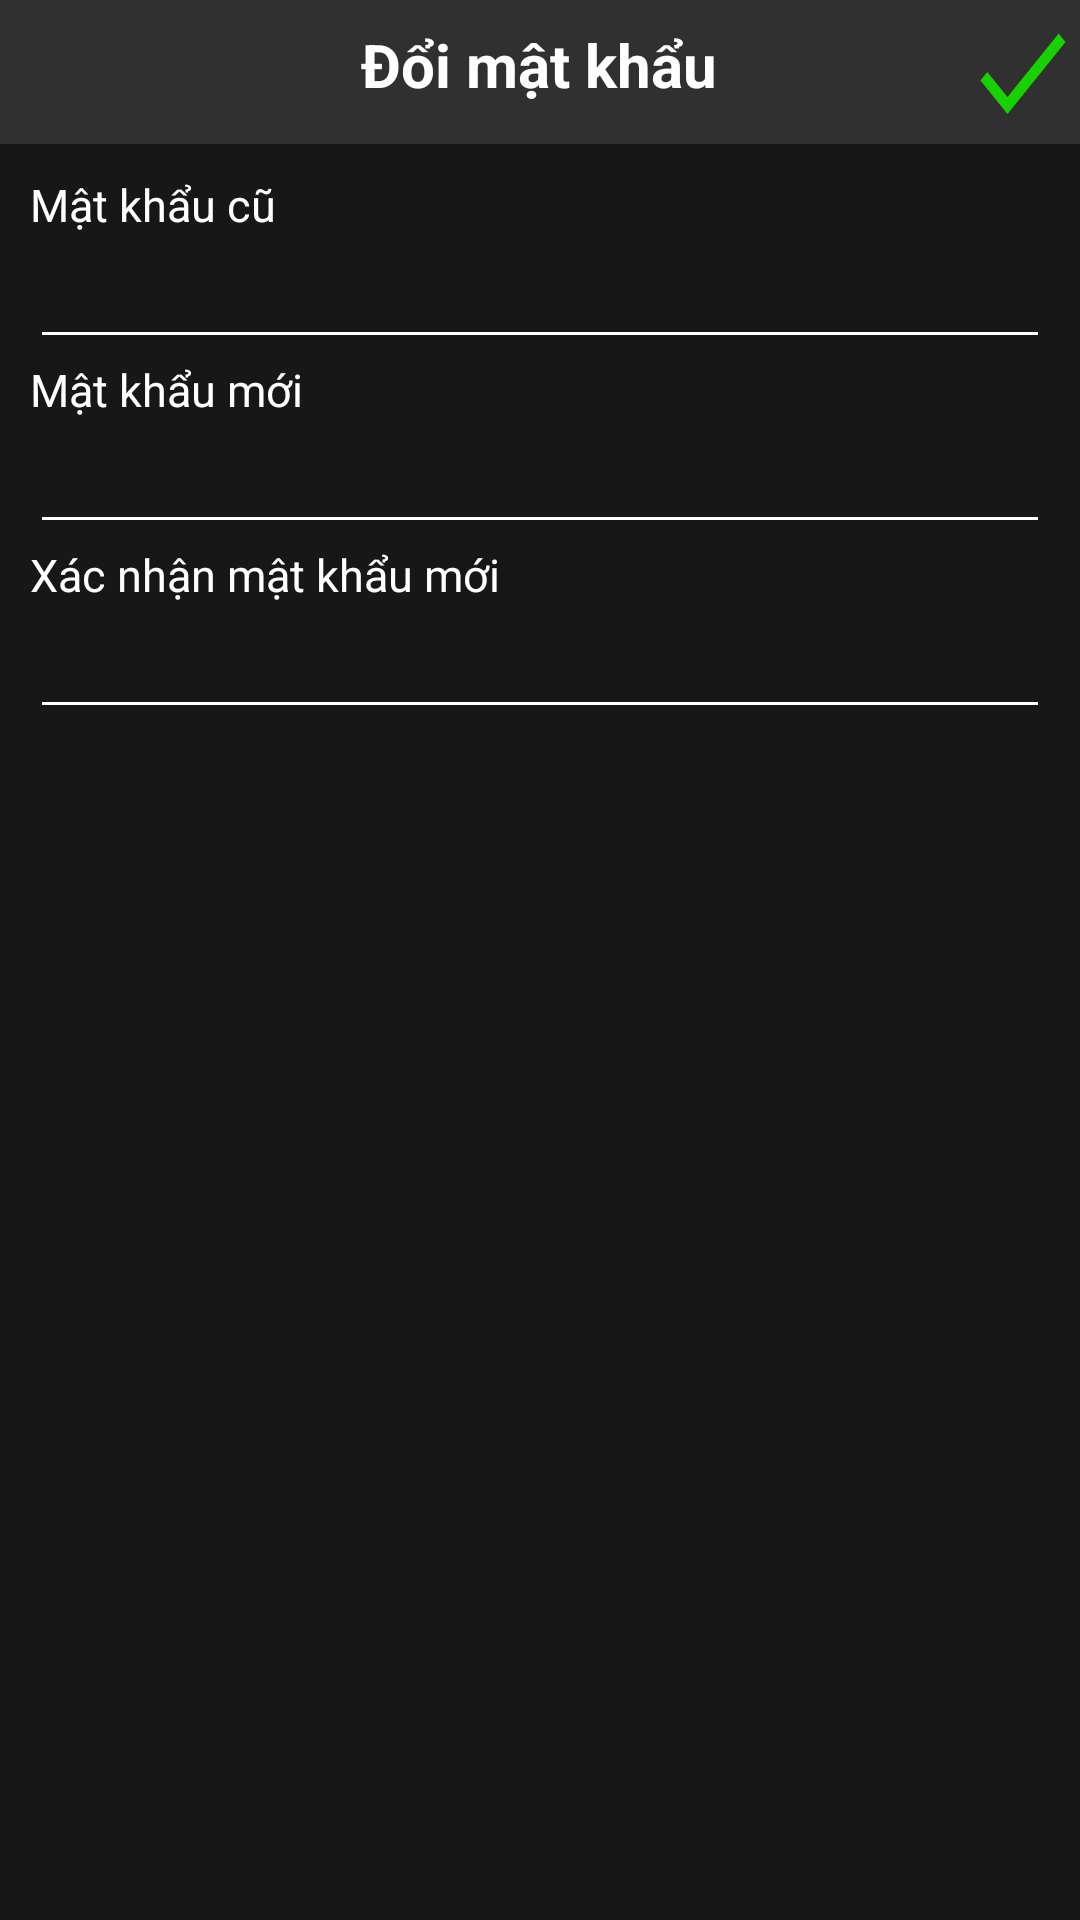

Locate icon controls on the screen. Image size 1080px×1920px, boxes as (x1, y1, x2, y2).
check: (980, 33, 1066, 114)
